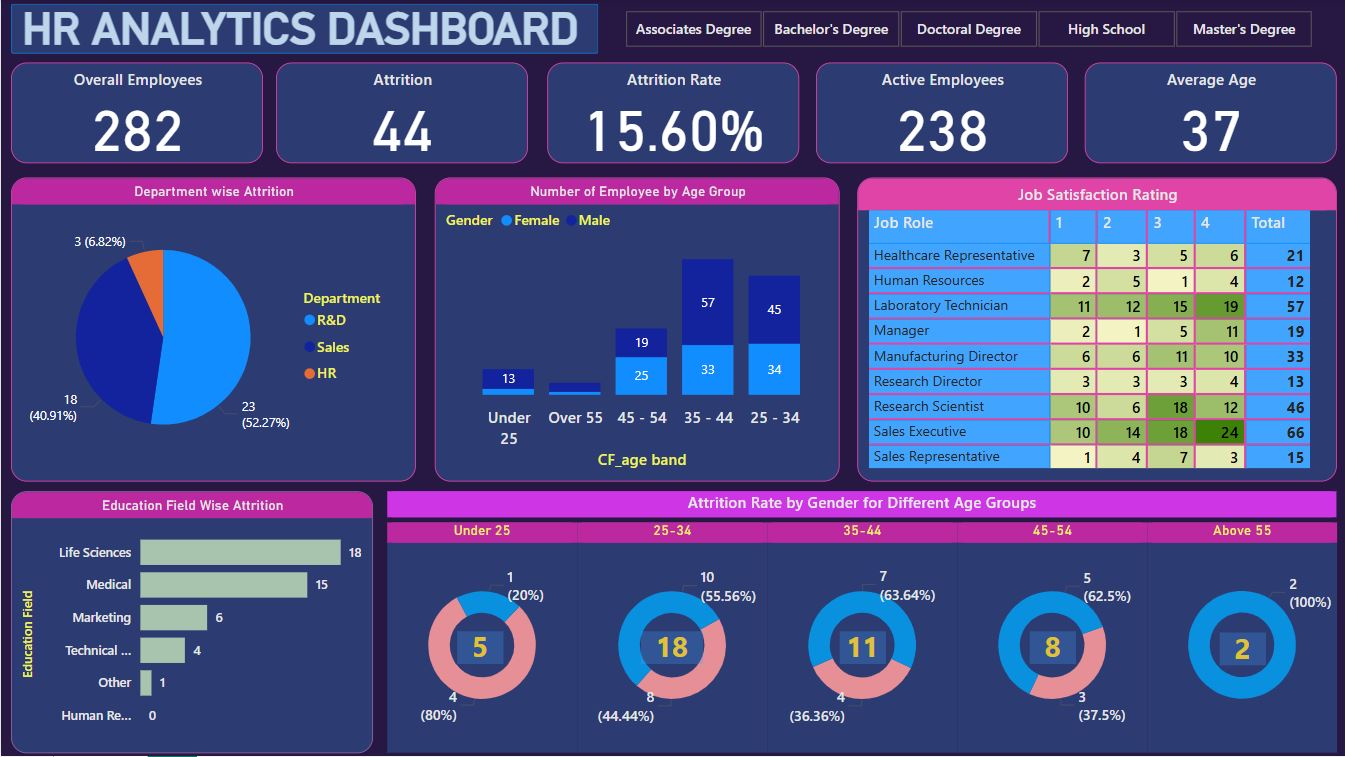

This screenshot's page, from the dashboard's own definition file:
{"tool":"powerbi","page":{"name":"Page 1","canvas":[1280,720],"ordinal":0},"visuals":[{"type":"card","title":"Overall Employees","fields":{"Values":["Sum(HR data.Employee Count)"]},"box":[9.6,59,240.1,96.1],"z":1000},{"type":"card","title":"Attrition","fields":{"Values":["Sum(HR data.Attrition Count)"]},"box":[262.1,59,240.1,96.1],"z":2000},{"type":"card","title":"Attrition Rate","fields":{"Values":["HR data.Attrition Rate"]},"box":[520.1,59,240.1,96.1],"z":3000},{"type":"card","title":"Active Employees","fields":{"Values":["HR data.Active Employess"]},"box":[776.7,59,240.1,96.1],"z":4000},{"type":"card","title":"Average Age","fields":{"Values":["Avg(HR data.Age)"]},"box":[1031.9,59,240.1,96.1],"z":5000},{"type":"pieChart","title":"Department wise Attrition","fields":{"Category":["HR data.Department"],"Y":["Sum(HR data.Attrition Count)"]},"box":[9.6,168.8,385.6,289.5],"z":6000},{"type":"columnChart","title":"Number of Employee by Age Group","fields":{"Category":["HR data.CF_age band"],"Y":["Sum(HR data.CF_current Employee)"],"Series":["HR data.Gender"]},"box":[413.1,169,385.7,289.3],"z":7000},{"type":"barChart","title":"Education Field Wise Attrition","fields":{"Y":["Sum(HR data.Attrition Count)"],"Category":["HR data.Education Field"]},"box":[9.6,467.9,344.4,249.7],"z":8000},{"type":"pivotTable","title":"Job Satisfaction Rating","fields":{"Rows":["HR data.Job Role"],"Columns":["HR data.Job Satisfaction"],"Values":["Sum(HR data.Employee Count)"]},"box":[815.1,168.8,456.9,289.5],"z":9000},{"type":"donutChart","title":"Under 25","fields":{"Category":["HR data.Gender"],"Y":["Sum(HR data.Attrition Count)"],"Series":["HR data.CF_age band"]},"box":[367.8,498.1,181,219.6],"z":10000},{"type":"textbox","title":"Attrition Rate by Gender for Different Age Groups","box":[367.8,467.9,904.3,24.7],"z":11000},{"type":"donutChart","title":"25-34","fields":{"Category":["HR data.Gender"],"Y":["Sum(HR data.Attrition Count)"],"Series":["HR data.CF_age band"]},"box":[548.9,498.1,181.1,219.6],"z":12000},{"type":"donutChart","title":"35-44","fields":{"Category":["HR data.Gender"],"Y":["Sum(HR data.Attrition Count)"],"Series":["HR data.CF_age band"]},"box":[730,498.1,181.1,219.6],"z":13000},{"type":"donutChart","title":"45-54","fields":{"Category":["HR data.Gender"],"Y":["Sum(HR data.Attrition Count)"],"Series":["HR data.CF_age band"]},"box":[911.2,498.1,181.1,219.6],"z":14000},{"type":"donutChart","title":"Above 55","fields":{"Category":["HR data.Gender"],"Y":["Sum(HR data.Attrition Count)"],"Series":["HR data.CF_age band"]},"box":[1091.7,497.6,181,219],"z":15000},{"type":"card","fields":{"Values":["Sum(HR data.Attrition Count)"]},"box":[435,601,43.9,31.6],"z":16000},{"type":"card","fields":{"Values":["Sum(HR data.Attrition Count)"]},"box":[609.3,601,59,31.6],"z":17000},{"type":"card","fields":{"Values":["Sum(HR data.Attrition Count)"]},"box":[798.6,601,43.9,31.6],"z":18000},{"type":"card","fields":{"Values":["Sum(HR data.Attrition Count)"]},"box":[979.8,601,43.9,31.6],"z":18001},{"type":"card","fields":{"Values":["Sum(HR data.Attrition Count)"]},"box":[1160.9,602.4,43.9,31.6],"z":18002},{"type":"textbox","title":"HR ANALYTICS DASHBOARD","box":[9.5,2.4,551.2,48.8],"z":18003},{"type":"slicer","fields":{"Values":["HR data.Education"]},"box":[569.1,3.6,703.6,47.6],"z":18004},{"type":"shape","box":[9.5,3.6,559.5,47.6],"z":18005}]}

Visuals, with their boxes in screenshot pixels (x1, y1, x2, y2), scaled from the page's 1280x720 canvas onto the 1345x757 screenshot:
"Overall Employees" card: region(10, 62, 262, 163)
"Attrition" card: region(275, 62, 528, 163)
"Attrition Rate" card: region(547, 62, 799, 163)
"Active Employees" card: region(816, 62, 1068, 163)
"Average Age" card: region(1084, 62, 1337, 163)
"Department wise Attrition" pieChart: region(10, 177, 415, 482)
"Number of Employee by Age Group" columnChart: region(434, 178, 839, 482)
"Education Field Wise Attrition" barChart: region(10, 492, 372, 754)
"Job Satisfaction Rating" pivotTable: region(856, 177, 1337, 482)
"Under 25" donutChart: region(386, 524, 577, 755)
"Attrition Rate by Gender for Different Age Groups" textbox: region(386, 492, 1337, 518)
"25-34" donutChart: region(577, 524, 767, 755)
"35-44" donutChart: region(767, 524, 957, 755)
"45-54" donutChart: region(957, 524, 1148, 755)
"Above 55" donutChart: region(1147, 523, 1337, 753)
card - Sum(HR data.Attrition Count): region(457, 632, 503, 665)
card - Sum(HR data.Attrition Count): region(640, 632, 702, 665)
card - Sum(HR data.Attrition Count): region(839, 632, 885, 665)
card - Sum(HR data.Attrition Count): region(1030, 632, 1076, 665)
card - Sum(HR data.Attrition Count): region(1220, 633, 1266, 667)
"HR ANALYTICS DASHBOARD" textbox: region(10, 3, 589, 54)
slicer - HR data.Education: region(598, 4, 1337, 54)
shape: region(10, 4, 598, 54)
